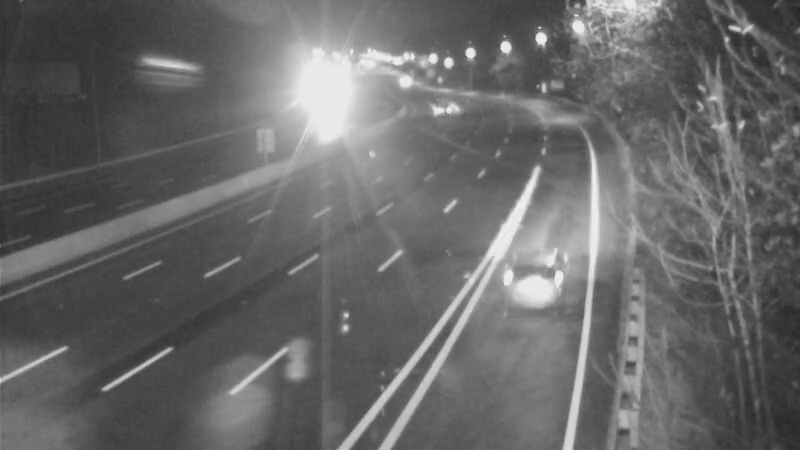vehicle: (504, 228, 584, 308), (376, 53, 426, 103), (415, 86, 465, 136), (295, 74, 345, 124)
